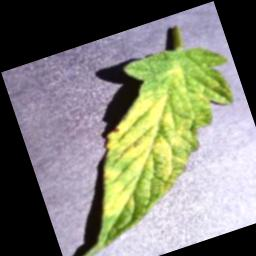Leaf_Mold: (48, 32, 256, 256)
